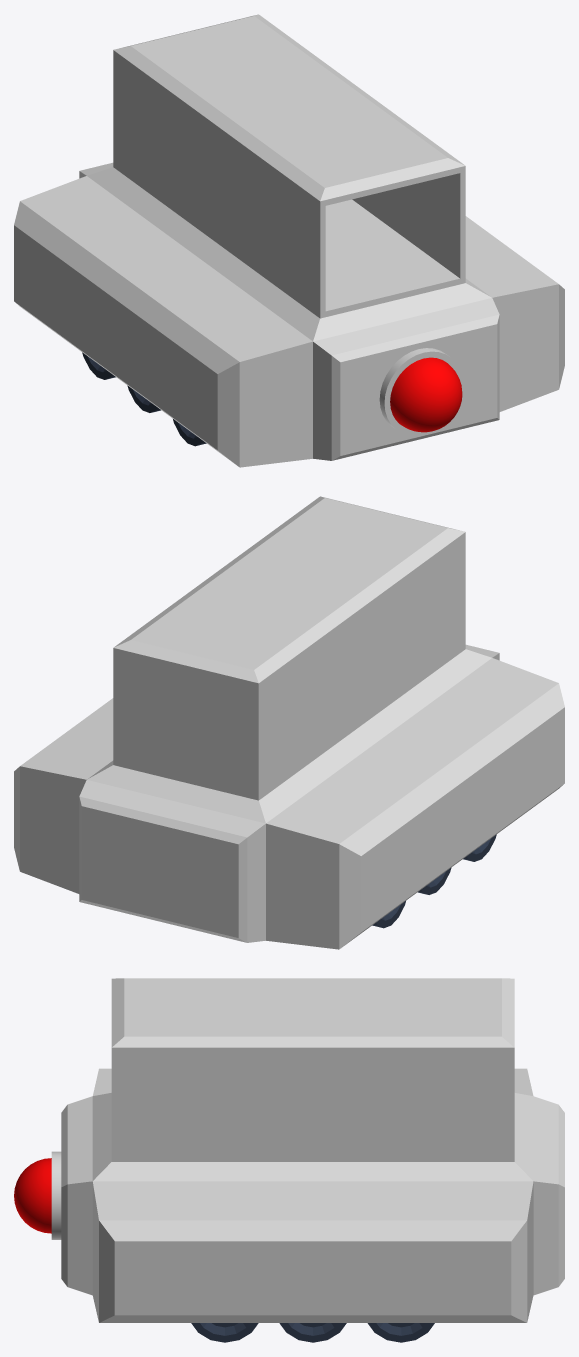
File: Tank_002.fbx
The picture shows the model from 3 angles, top to bottom: view 1: azimuth 30°, elevation 25°; view 2: azimuth 150°, elevation 25°; view 3: azimuth 270°, elevation 25°; orthographic projection. The views are drawn at different scales.
Visible parts, largest first — view 1: tankBody_001, tankCore_001; view 2: tankBody_001; view 3: tankBody_001, tankCore_001, tankWheelLeft_003, tankWheelLeft_002, tankWheelLeft_001.
Boxes of the visible parts, x1,y1,x2,y2 form: tankBody_001: (14, 14, 564, 467); tankCore_001: (379, 348, 462, 435); tankBody_001: (14, 496, 564, 949); tankBody_001: (61, 978, 564, 1322); tankCore_001: (14, 1151, 61, 1239); tankWheelLeft_003: (367, 1323, 434, 1342); tankWheelLeft_002: (279, 1323, 346, 1342); tankWheelLeft_001: (191, 1323, 258, 1342).
Bounding box in the file's own units: 62 × 48 × 87.5.
